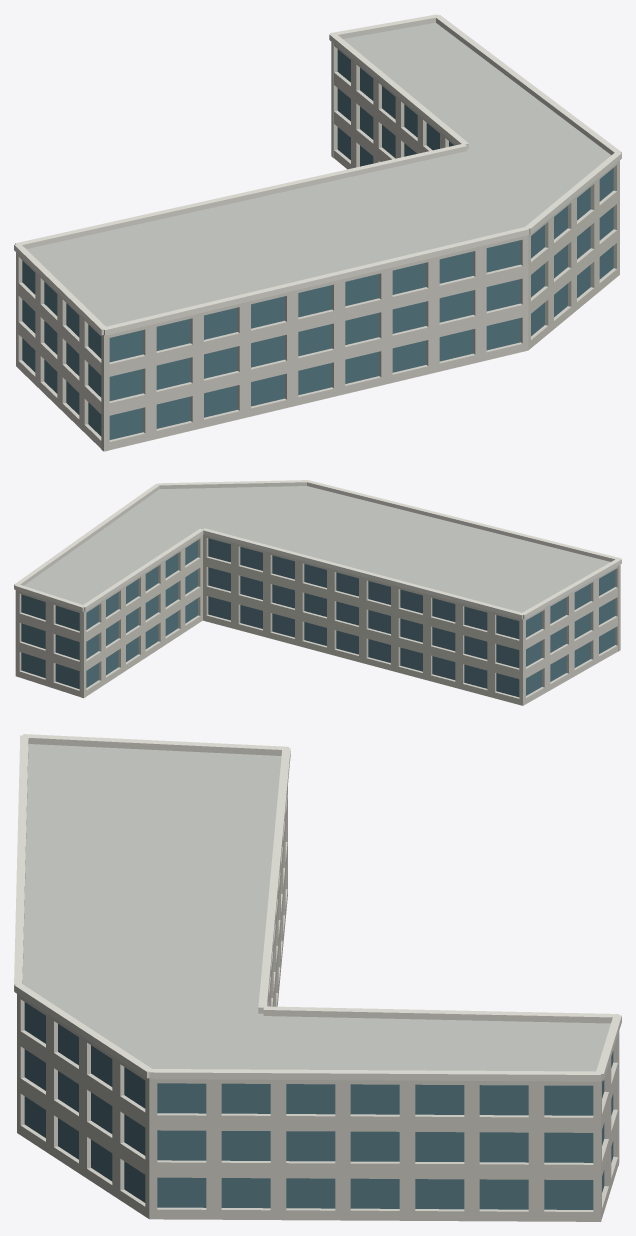
Rendered from sb_1556514402.far.glb.
The picture shows the model from 3 angles, top to bottom: view 1: azimuth 30°, elevation 25°; view 2: azimuth 150°, elevation 25°; view 3: azimuth 270°, elevation 25°; orthographic projection. The views are drawn at different scales.
Visible parts, largest first — view 1: roof, wall, glass, trim; view 2: roof, wall, glass, trim; view 3: roof, wall, glass, trim.
Part boxes in pixels (<box>): roof: <box>26,22,611,326</box>; wall: <box>16,42,619,451</box>; glass: <box>22,49,613,439</box>; trim: <box>14,14,621,335</box>; roof: <box>24,486,610,612</box>; wall: <box>15,534,620,705</box>; glass: <box>21,538,615,697</box>; trim: <box>14,480,621,619</box>; roof: <box>22,744,610,1071</box>; wall: <box>17,786,619,1221</box>; glass: <box>24,1002,613,1209</box>; trim: <box>14,734,621,1081</box>.
Bounding box in the file's own units: 48.08 × 9.74 × 36.23.
